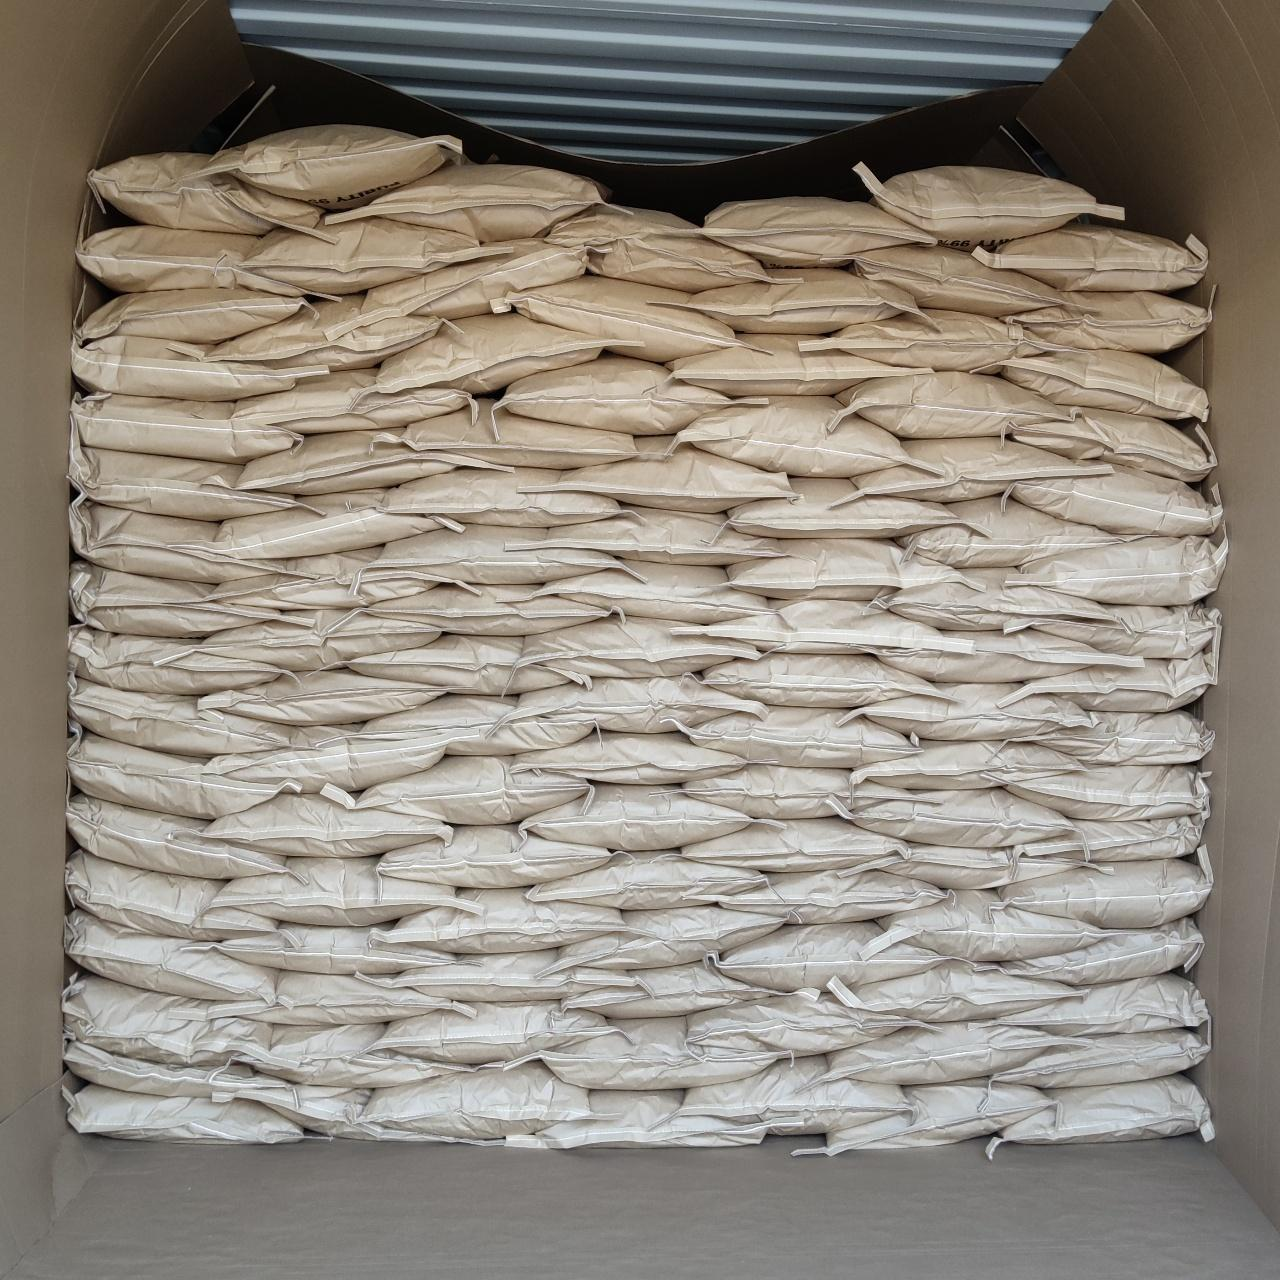sack: (336, 164, 606, 241), (241, 218, 509, 295), (206, 125, 462, 206), (856, 166, 1124, 241), (493, 275, 734, 358), (64, 972, 270, 1068), (501, 356, 758, 430), (546, 206, 768, 292), (68, 850, 275, 940), (794, 1082, 1050, 1155), (66, 910, 278, 998), (526, 440, 790, 510), (678, 396, 910, 476), (91, 154, 324, 232), (70, 498, 286, 583), (70, 731, 278, 818), (68, 796, 286, 878), (380, 400, 642, 468), (69, 676, 295, 755), (374, 314, 606, 390), (365, 1062, 590, 1141), (207, 858, 467, 926), (360, 241, 586, 318), (680, 1058, 908, 1133), (76, 226, 320, 297), (72, 444, 304, 518), (200, 492, 459, 558), (988, 1076, 1214, 1150), (72, 561, 300, 634), (852, 438, 1112, 502), (207, 297, 444, 366), (968, 222, 1206, 290), (872, 890, 1110, 958), (542, 1017, 779, 1085), (198, 726, 442, 790), (72, 394, 300, 462), (74, 336, 324, 399), (202, 792, 450, 855), (682, 600, 968, 654), (700, 198, 934, 264), (348, 758, 590, 822), (376, 890, 629, 949), (826, 1022, 1078, 1082), (804, 309, 1044, 372), (668, 336, 926, 394), (832, 374, 1070, 436), (714, 924, 942, 988), (70, 626, 286, 694), (878, 568, 1118, 629), (510, 1092, 764, 1150), (903, 498, 1116, 566), (830, 962, 1082, 1020), (192, 610, 438, 668), (518, 617, 758, 676), (688, 990, 914, 1054), (532, 561, 765, 622), (234, 1024, 468, 1085), (978, 920, 1201, 983), (1008, 538, 1224, 604), (688, 270, 915, 332), (1002, 858, 1210, 926), (850, 248, 1064, 314), (522, 510, 782, 564), (1006, 644, 1216, 710), (382, 826, 617, 886), (384, 468, 624, 526), (232, 372, 470, 430), (1005, 350, 1206, 420), (728, 540, 971, 598), (682, 706, 914, 765), (376, 526, 622, 583), (1012, 410, 1214, 478), (520, 787, 750, 846), (554, 908, 790, 966), (380, 1005, 614, 1062), (70, 1084, 304, 1142), (527, 852, 765, 908), (346, 636, 588, 692), (1005, 474, 1223, 535), (234, 433, 452, 493), (842, 685, 1088, 738), (207, 972, 470, 1022), (200, 670, 445, 724), (360, 696, 590, 754), (992, 974, 1208, 1034), (510, 678, 765, 728), (730, 478, 958, 535), (79, 286, 306, 342), (844, 790, 1070, 846), (682, 765, 918, 819), (374, 949, 638, 998), (207, 550, 430, 606), (876, 632, 1133, 680), (360, 586, 614, 634), (719, 869, 942, 922), (66, 1042, 280, 1098), (215, 926, 462, 974), (696, 656, 937, 706), (994, 1030, 1208, 1085), (1010, 292, 1208, 350), (515, 731, 744, 782), (680, 818, 904, 870), (850, 742, 1084, 790), (218, 1084, 416, 1141), (1006, 765, 1206, 821), (561, 964, 778, 1014), (1008, 712, 1212, 764), (1021, 605, 1219, 659), (850, 844, 1102, 886), (1016, 816, 1200, 862), (321, 294, 342, 297)
